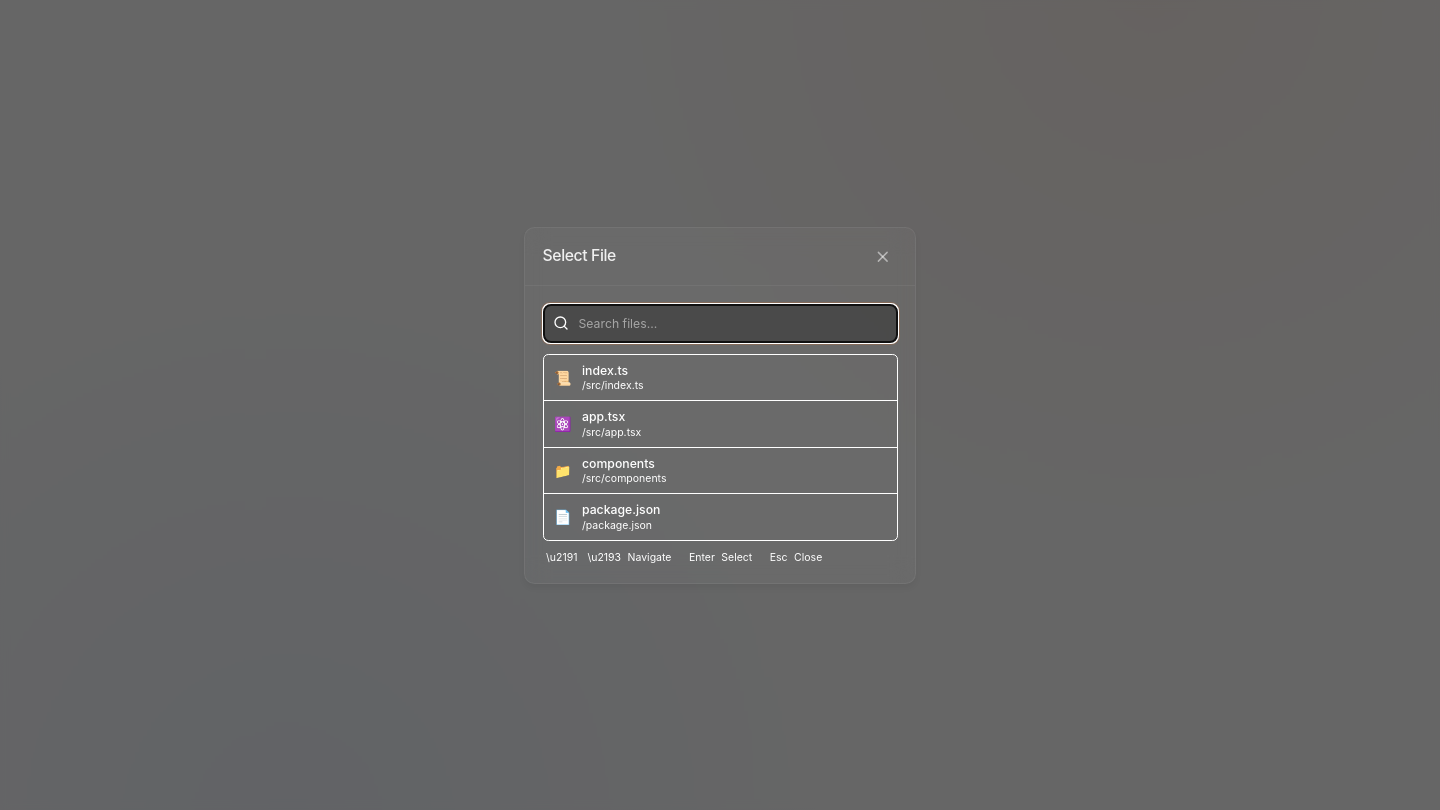
FilePickerModal › search functionality › should filter files by path
Type "/src" into the field with placeholder "Search files..." at (720, 323), box x1=542 y1=304 x2=898 y2=343
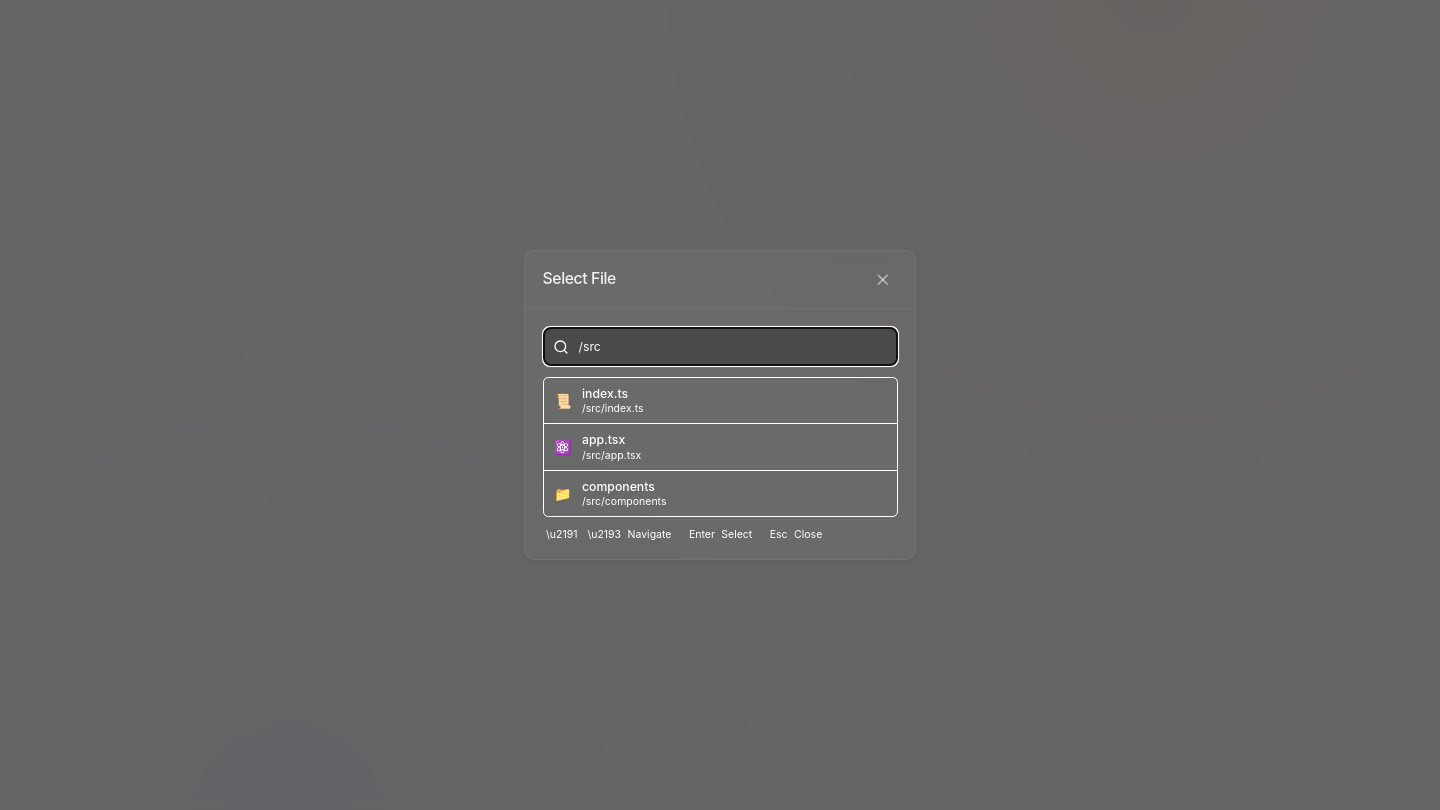
Expected: the text "index.ts" is shown, x1=582 y1=386 x2=628 y2=401
Expected: the option "package.json" is gone
